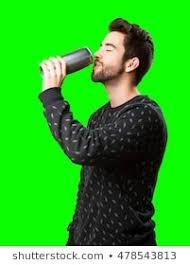Drinking: (40, 31, 140, 87)
